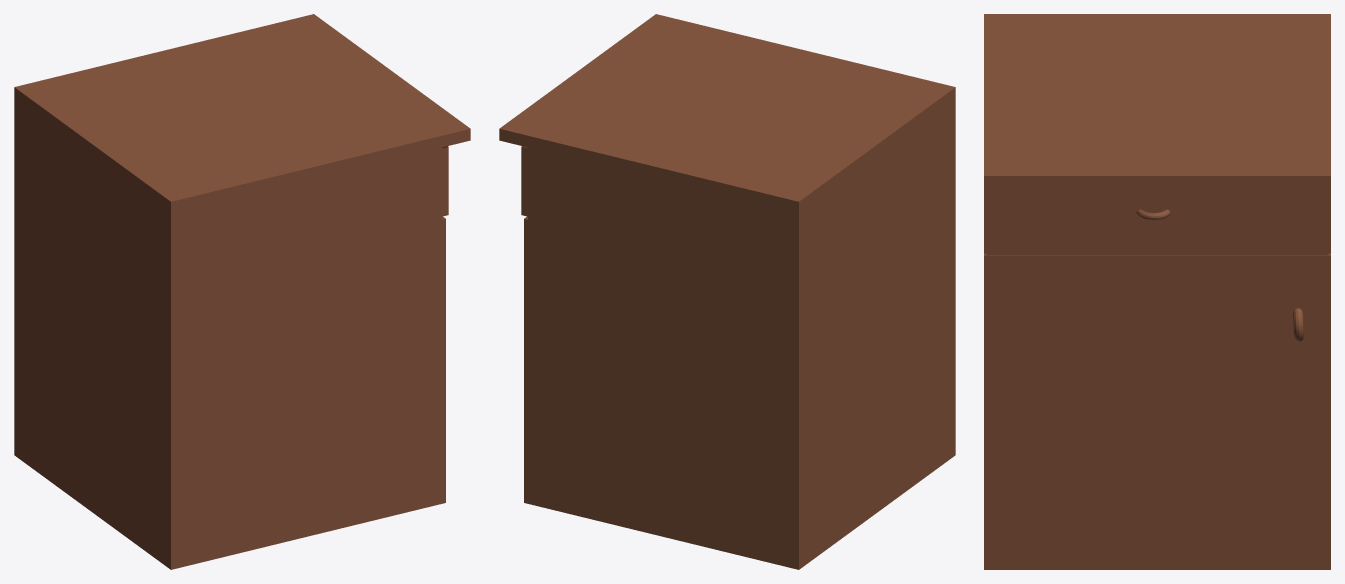
The model's file is nightshelf v3.fbx.
3 renders of one model, left to right at view 1: azimuth 30°, elevation 25°; view 2: azimuth 150°, elevation 25°; view 3: azimuth 270°, elevation 25°, orthographic. The views are drawn at different scales.
Parts seen in each view (by area): view 1: Stand, Drawer2; view 2: Stand, Drawer2; view 3: Drawer2, Stand, Drawer.
Part boxes in pixels (x1=…): Stand: x1=14, y1=14, x2=470, y2=569; Drawer2: x1=442, y1=216, x2=445, y2=503; Stand: x1=499, y1=14, x2=955, y2=569; Drawer2: x1=524, y1=216, x2=527, y2=503; Drawer2: x1=984, y1=253, x2=1330, y2=569; Stand: x1=984, y1=14, x2=1330, y2=253; Drawer: x1=986, y1=189, x2=1328, y2=255.
Size of the model in its own units: 221 by 259 by 200.
